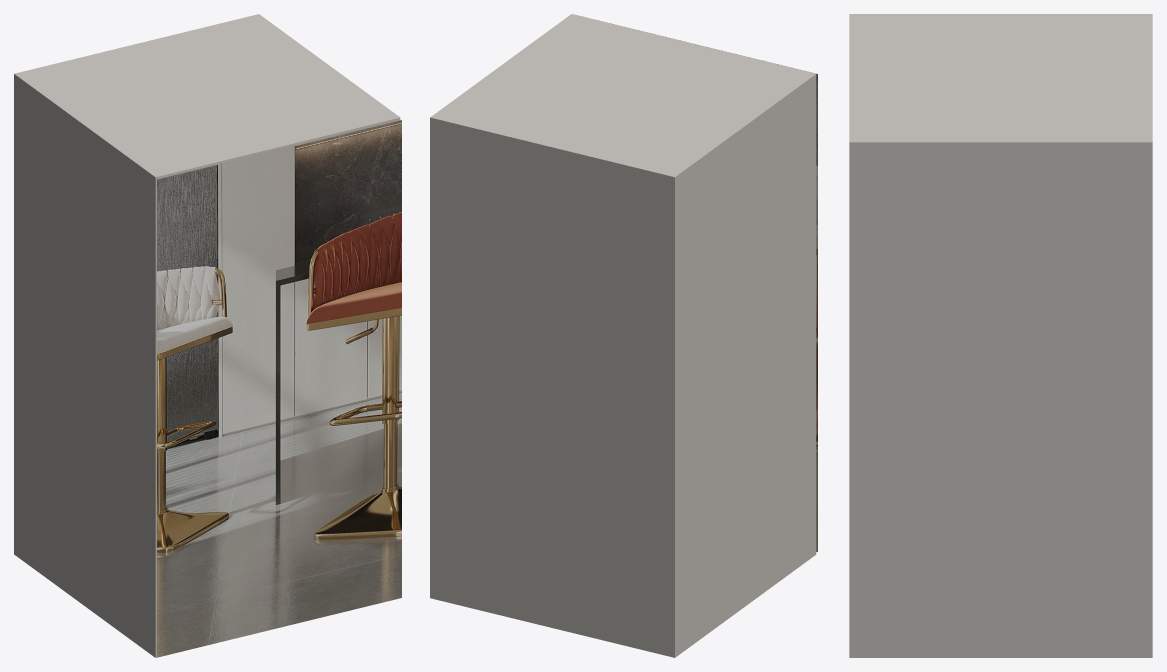
Rendered from mocan-51.glb.
3 views of the same model, side by side, from view 1: azimuth 30°, elevation 25°; view 2: azimuth 150°, elevation 25°; view 3: azimuth 270°, elevation 25° (orthographic). The views are drawn at different scales.
Parts seen in each view (by area): view 1: furniture; view 2: furniture; view 3: furniture.
Boxes of the visible parts, x1=… form: furniture: x1=14, y1=14, x2=401, y2=657; furniture: x1=430, y1=14, x2=817, y2=657; furniture: x1=849, y1=14, x2=1152, y2=657.
Size of the model in its own units: 0.4 by 0.75 by 0.404.
Materials: 2 (1 with a texture image).
